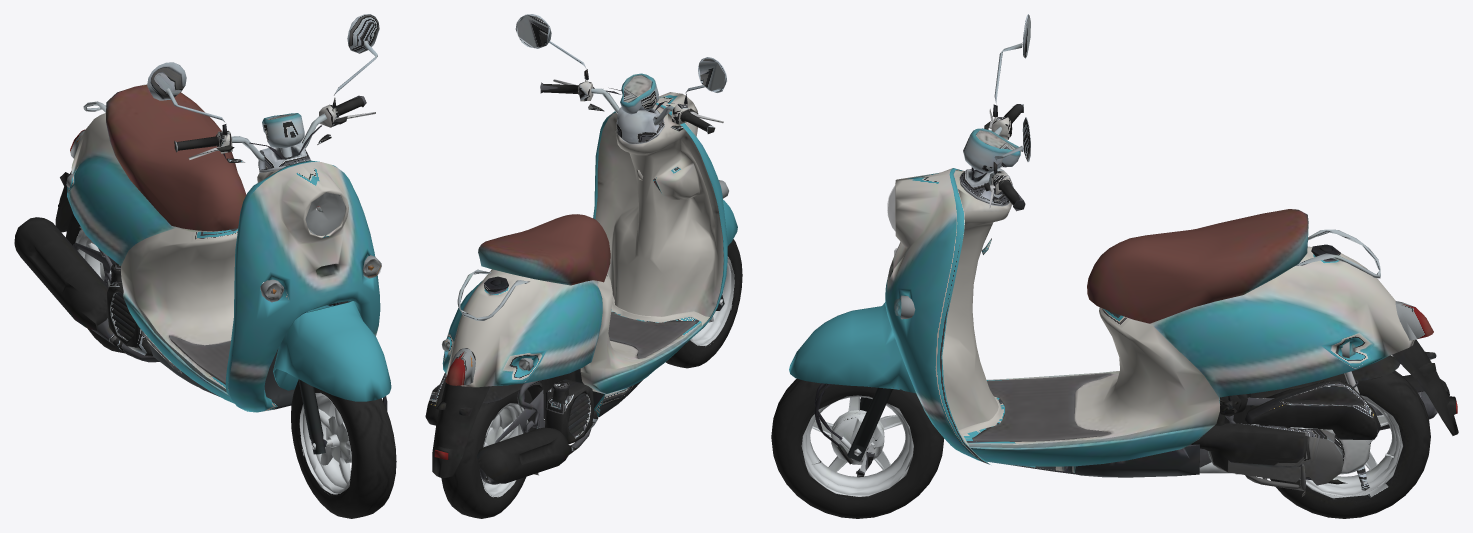
File: ride_scooter.glb
The picture shows the model from 3 angles, left to right: view 1: azimuth 30°, elevation 25°; view 2: azimuth 150°, elevation 25°; view 3: azimuth 270°, elevation 25°; orthographic projection. The views are drawn at different scales.
Parts seen in each view (by area): view 1: body, wheelF, wheelR; view 2: body, wheelR, wheelF; view 3: body, wheelF, wheelR.
Part boxes in pixels (left/top/right/bottom): body: left=14, top=14, right=391, bottom=454; wheelF: left=291, top=380, right=396, bottom=518; wheelR: left=65, top=213, right=124, bottom=353; body: left=425, top=14, right=737, bottom=484; wheelR: left=441, top=389, right=536, bottom=518; wheelF: left=666, top=239, right=742, bottom=368; body: left=789, top=14, right=1458, bottom=496; wheelF: left=771, top=378, right=944, bottom=518; wheelR: left=1259, top=370, right=1430, bottom=518.
Size of the model in its own units: 0.6794 by 1.16 by 1.62.
5 materials, 5 textured.
